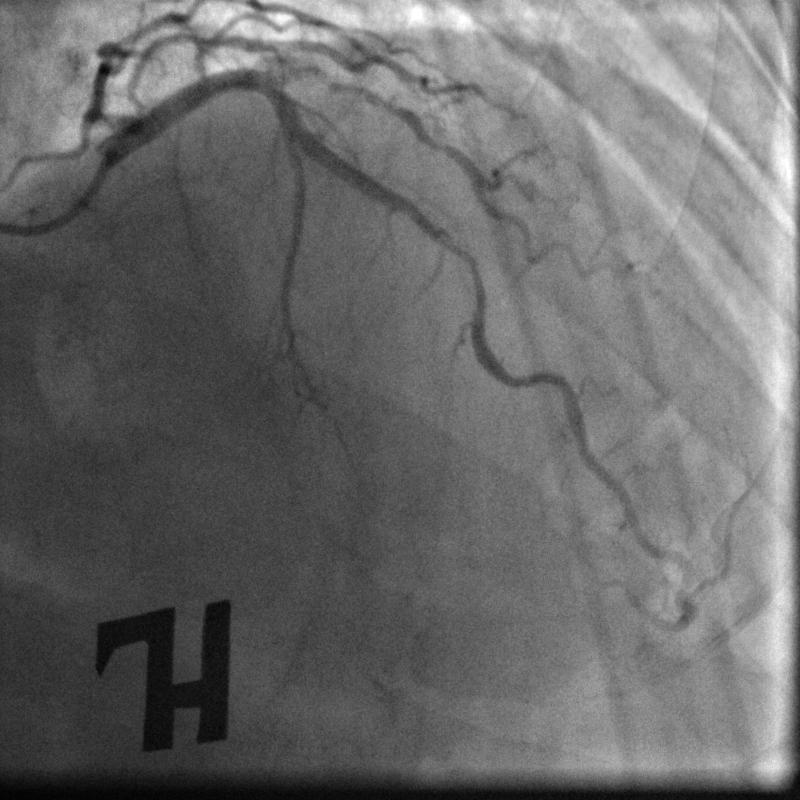Stenosis: (446, 235, 486, 312)
